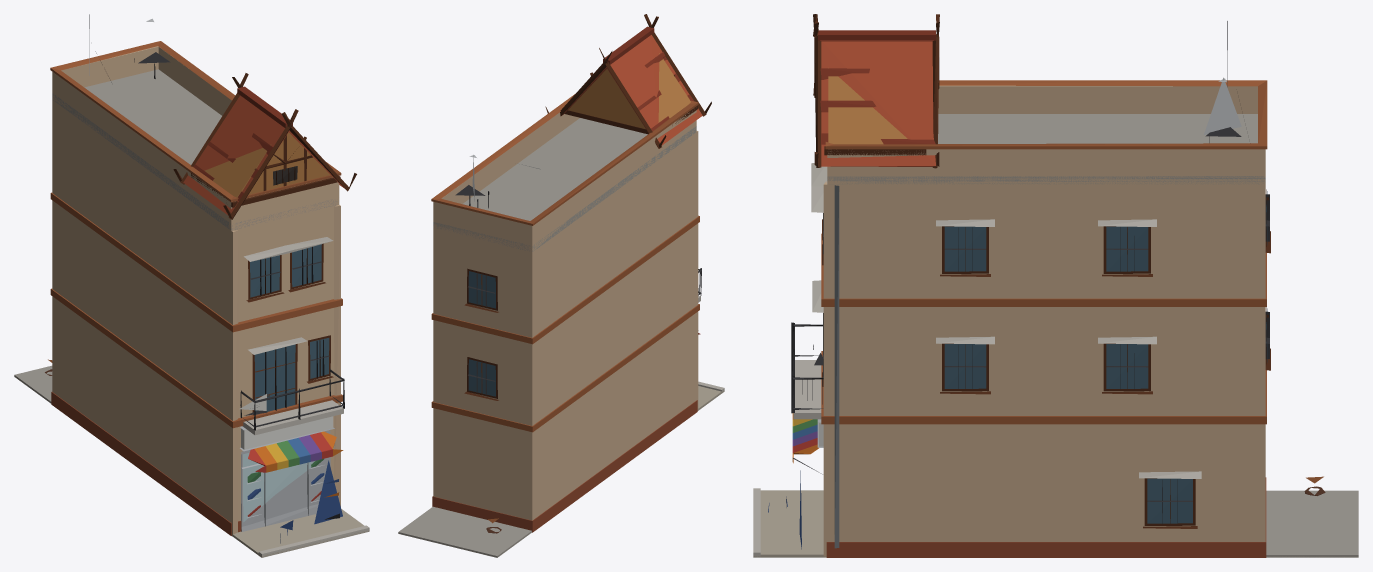
The model's file is bay2_right.glb.
3 views of the same model, side by side, from view 1: azimuth 30°, elevation 25°; view 2: azimuth 150°, elevation 25°; view 3: azimuth 270°, elevation 25° (orthographic). The views are drawn at different scales.
Visible parts, largest first — view 1: body, windows; view 2: body, windows; view 3: body, windows.
Part boxes in pixels (<box>): body: <box>14,14,369,557</box>; windows: <box>250,166,329,414</box>; body: <box>398,14,724,557</box>; windows: <box>468,271,495,396</box>; body: <box>753,14,1358,557</box>; windows: <box>944,191,1267,523</box>.
Size of the model in its own units: 4.95 by 14.83 by 15.9.
